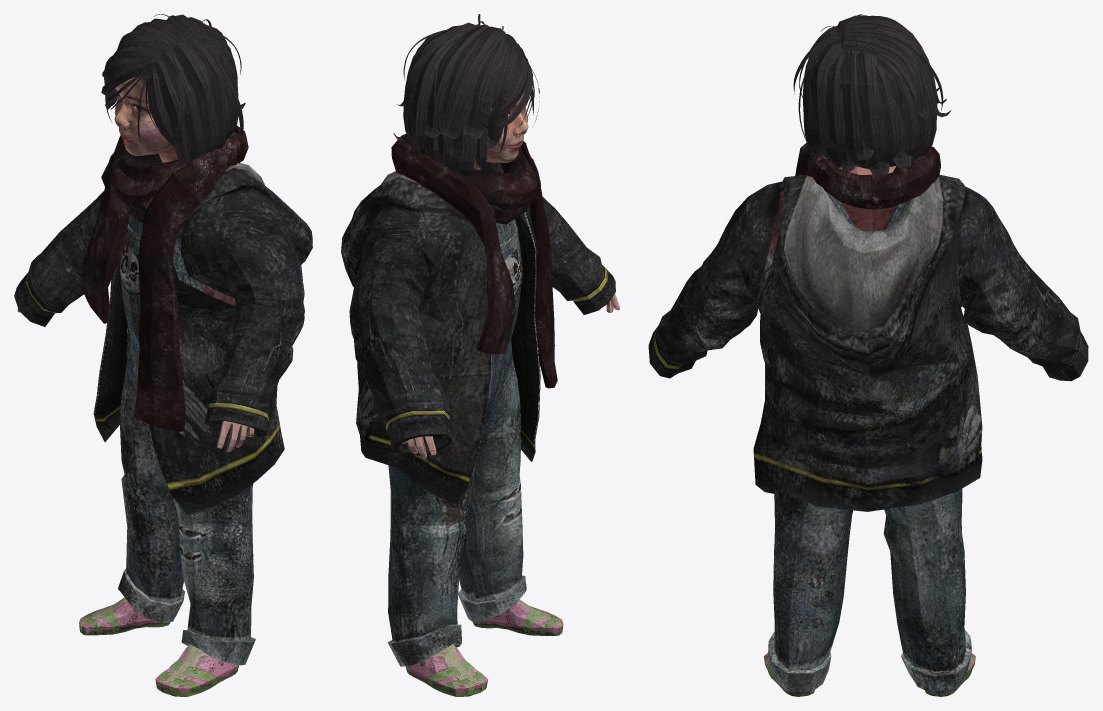
Rendered from niña.obj.
3 views of the same model, side by side, from view 1: azimuth 30°, elevation 25°; view 2: azimuth 150°, elevation 25°; view 3: azimuth 270°, elevation 25° (orthographic). The views are drawn at different scales.
Parts seen in each view (by area): view 1: Object002, Object001; view 2: Object002, Object001; view 3: Object002, Object001.
Part boxes in pixels (<box>): Object002: <box>14,14,312,696</box>; Object001: <box>181,185,304,451</box>; Object002: <box>341,14,563,696</box>; Object001: <box>531,158,619,314</box>; Object002: <box>753,14,1088,696</box>; Object001: <box>648,181,784,378</box>.
Size of the model in its own units: 79.75 by 250 by 150.
